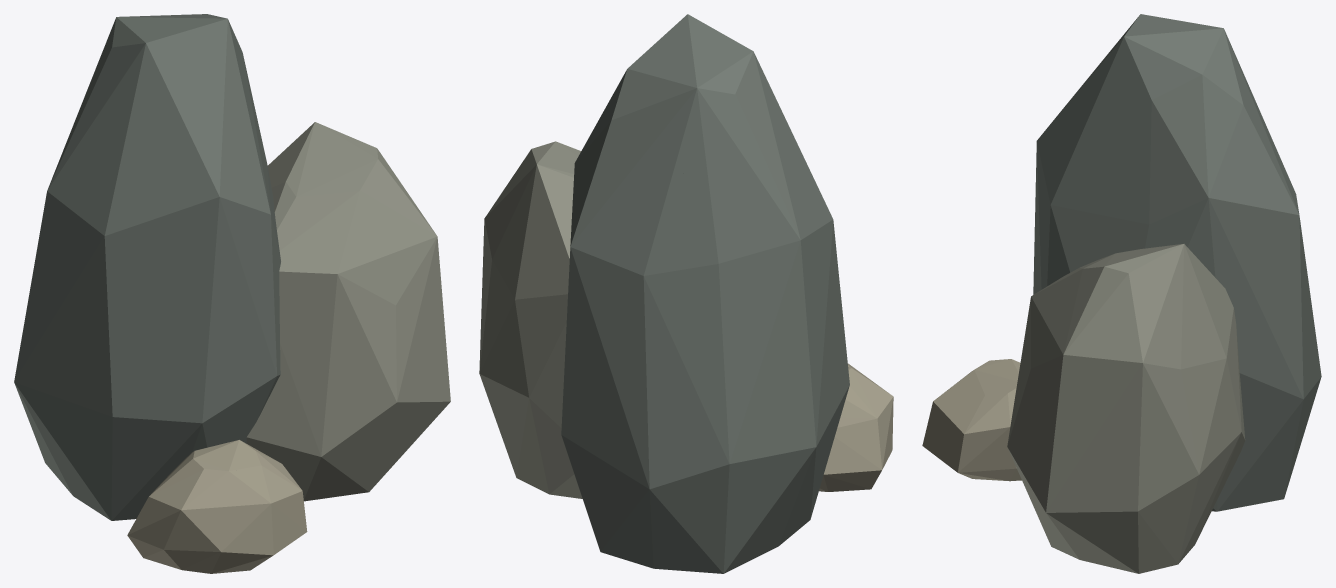
The model's file is FSA_ENV_Outdoor_Rock_05_Tower.glb.
3 renders of one model, left to right at view 1: azimuth 30°, elevation 25°; view 2: azimuth 150°, elevation 25°; view 3: azimuth 270°, elevation 25°, orthographic. The views are drawn at different scales.
Parts seen in each view (by area): view 1: TallSpire, SplitButtress, FootBoulder; view 2: TallSpire, SplitButtress, FootBoulder; view 3: TallSpire, SplitButtress, FootBoulder.
Part boxes in pixels (left/top/right/bottom): TallSpire: left=14, top=14, right=280, bottom=520; SplitButtress: left=246, top=122, right=450, bottom=501; FootBoulder: left=127, top=440, right=307, bottom=573; TallSpire: left=561, top=14, right=849, bottom=573; SplitButtress: left=479, top=141, right=582, bottom=498; FootBoulder: left=819, top=363, right=893, bottom=491; TallSpire: left=1033, top=14, right=1321, bottom=511; SplitButtress: left=1007, top=244, right=1245, bottom=573; FootBoulder: left=922, top=359, right=1021, bottom=481.
Bounding box in the file's own units: 4.65 × 5.8 × 4.56.
